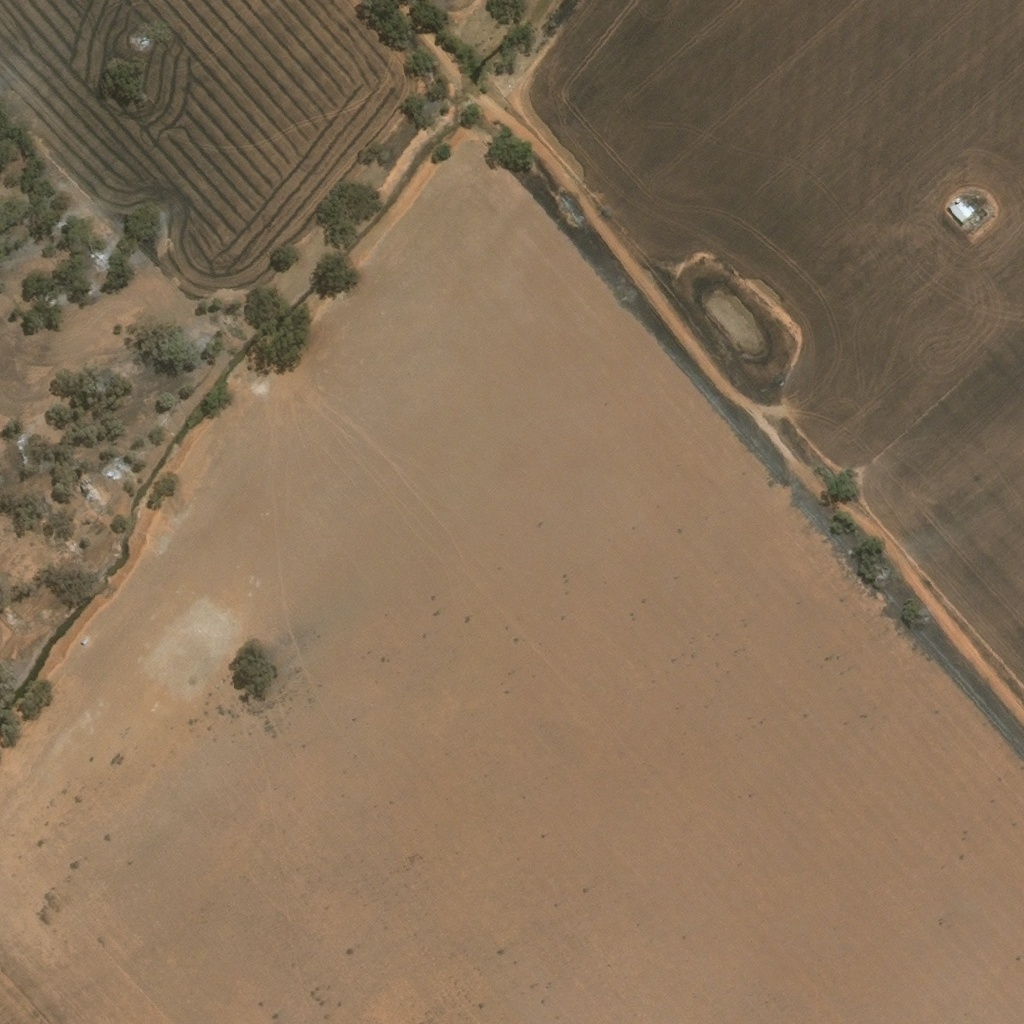0 no-damage: (948, 198, 974, 224)
